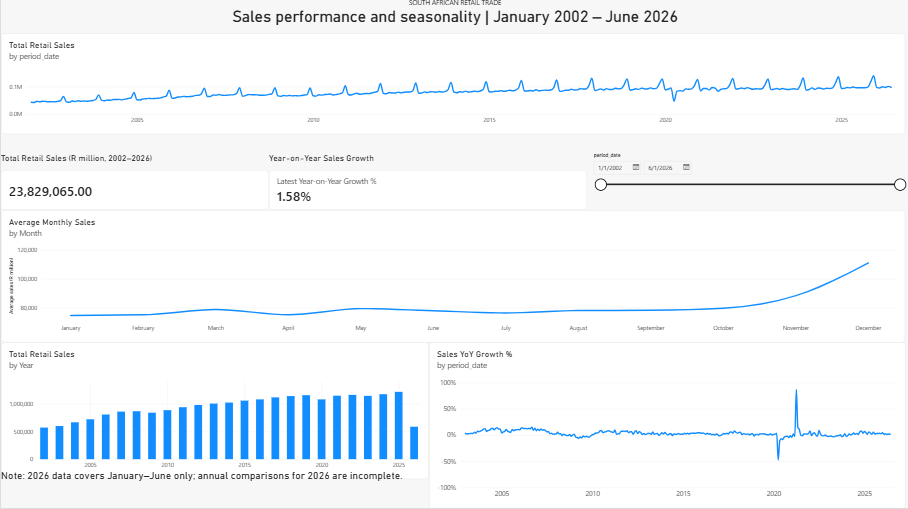

This screenshot's page, from the dashboard's own definition file:
{"tool":"powerbi","page":{"name":"Page 1","canvas":[1920,1080],"ordinal":0},"visuals":[{"type":"cardVisual","title":"Total Retail Sales (R million, 2002–2026)","fields":{"Data":["Measured.Total Retail Sales"]},"box":[0,327.6,566.9,120.9],"z":0},{"type":"lineChart","fields":{"Category":["public retail_sales_import.period_date.Variation.Date Hierarchy.Month"],"Y":["Measured.Average Monthly Sales"]},"box":[0,448.5,1912.4,279.7],"z":1},{"type":"cardVisual","title":"Year-on-Year Sales Growth","fields":{"Data":["Measured.Latest Year-on-Year Growth %"]},"box":[566.9,327.6,672.8,120.9],"z":2},{"type":"lineChart","fields":{"Category":["public retail_sales_import.period_date"],"Y":["Measured.Total Retail Sales"]},"box":[0,73.1,1912.4,214.2],"z":3},{"type":"slicer","fields":{"Values":["public retail_sales_import.period_date"]},"box":[1245.4,326.5,672.8,120.9],"z":4},{"type":"lineChart","fields":{"Category":["public retail_sales_import.period_date"],"Y":["Measured.Sales YoY Growth %"]},"box":[904.6,728.2,1007.9,352.8],"z":5},{"type":"clusteredColumnChart","fields":{"Category":["public retail_sales_import.period_date.Variation.Date Hierarchy.Year"],"Y":["Measured.Total Retail Sales"]},"box":[0,728.2,904.6,289.8],"z":6},{"type":"textbox","box":[0,0,1920,73.1],"z":7},{"type":"textbox","box":[0,997.8,876.9,63],"z":8}]}

Visuals, with their boxes in screenshot pixels (x1, y1, x2, y2), scaled from the page's 1920x1080 canvas onto the 908x509 screenshot:
"Total Retail Sales (R million, 2002–2026)" cardVisual: (0,154,268,211)
lineChart - public retail_sales_import.period_date.Variation.Date Hierarchy.Month x Measured.Average Monthly Sales: (0,211,904,343)
"Year-on-Year Sales Growth" cardVisual: (268,154,586,211)
lineChart - public retail_sales_import.period_date x Measured.Total Retail Sales: (0,34,904,135)
slicer - public retail_sales_import.period_date: (589,154,907,211)
lineChart - public retail_sales_import.period_date x Measured.Sales YoY Growth %: (428,343,904,508)
clusteredColumnChart - public retail_sales_import.period_date.Variation.Date Hierarchy.Year x Measured.Total Retail Sales: (0,343,428,480)
textbox: (0,0,907,34)
textbox: (0,470,415,500)
